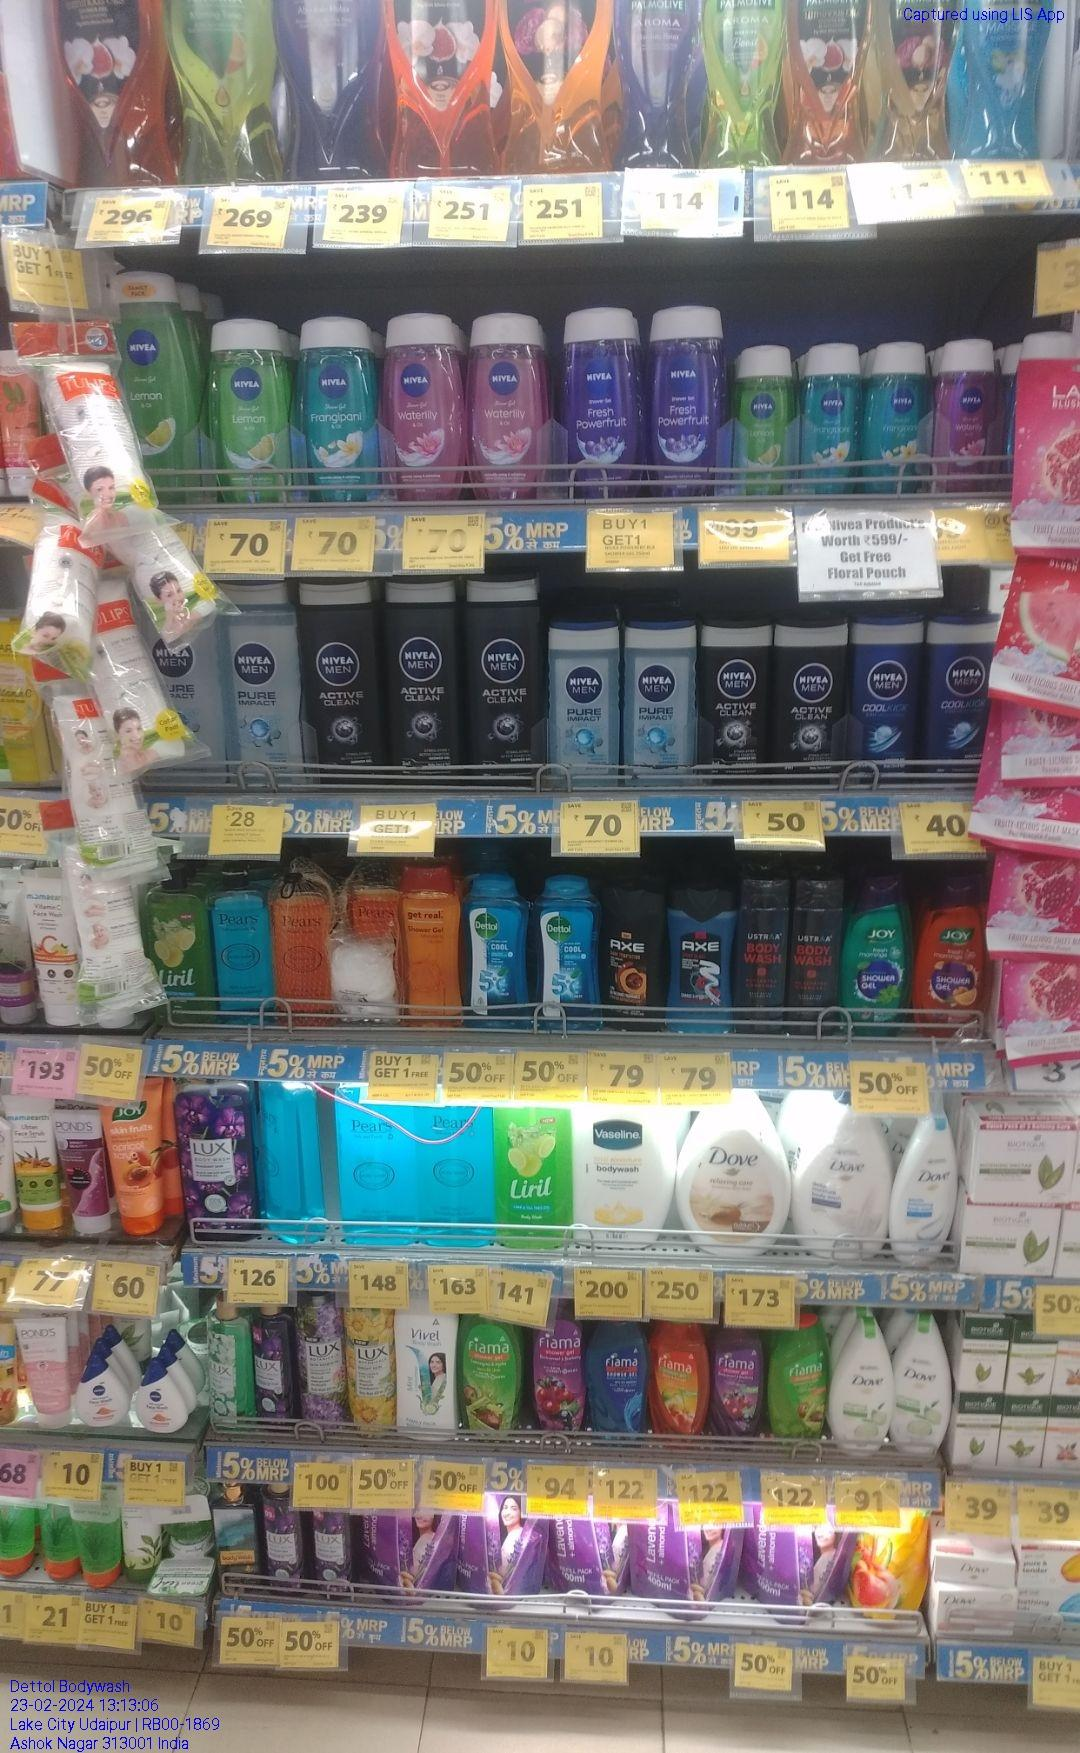Dettol_Bodywash_Cool: (464, 876, 532, 1028), (538, 878, 603, 1032)
Dove_Refreshing_Body_Wash_250ML: (826, 1317, 892, 1457), (892, 1311, 947, 1459)
Fiama_Shower_Gel_Lemongrass_and_Jojoba_250ML: (770, 1316, 823, 1444)
Get_Real_Shower_Gel_Moisturising_Glycerin_300ML: (399, 863, 462, 1029)
Joy_Shower_Gel_Mandarin_and_Lemongrass_250ML: (914, 876, 982, 1041)
Joy_Shower_Gel_Mint_and_Eucalyptus_250ML: (841, 871, 906, 1038)
Liril_Lime_and_Tea_Tree_Oil_Body_Wash_250ML: (156, 863, 210, 1020)
Lux_Black_Orchid_Scent_and_Juniper_Oil_Body_Wash_245ML: (255, 1302, 297, 1431)
Lux_Body_Wash_Skin_Detox_Freesia_Scent_and_Alove_Vera_245ML: (206, 1302, 253, 1439)
Nivea_Shower_Gel_Frangipani_and_Oil_250ML: (299, 313, 379, 502)
Nivea_Shower_Gel_Fresh_Powerfruit_250ML: (564, 306, 638, 498), (647, 303, 718, 498)
Nivea_Shower_Gel_Lemon_and_Oil_250ML: (210, 316, 292, 506)
Nivea_Shower_Gel_Waterlily_and_Oil_250ML: (384, 309, 463, 505), (471, 308, 541, 505)
Pears_Pure_Glycerin_and_Mint_Extracts_Body_Wash_250ML: (214, 863, 278, 1020)
